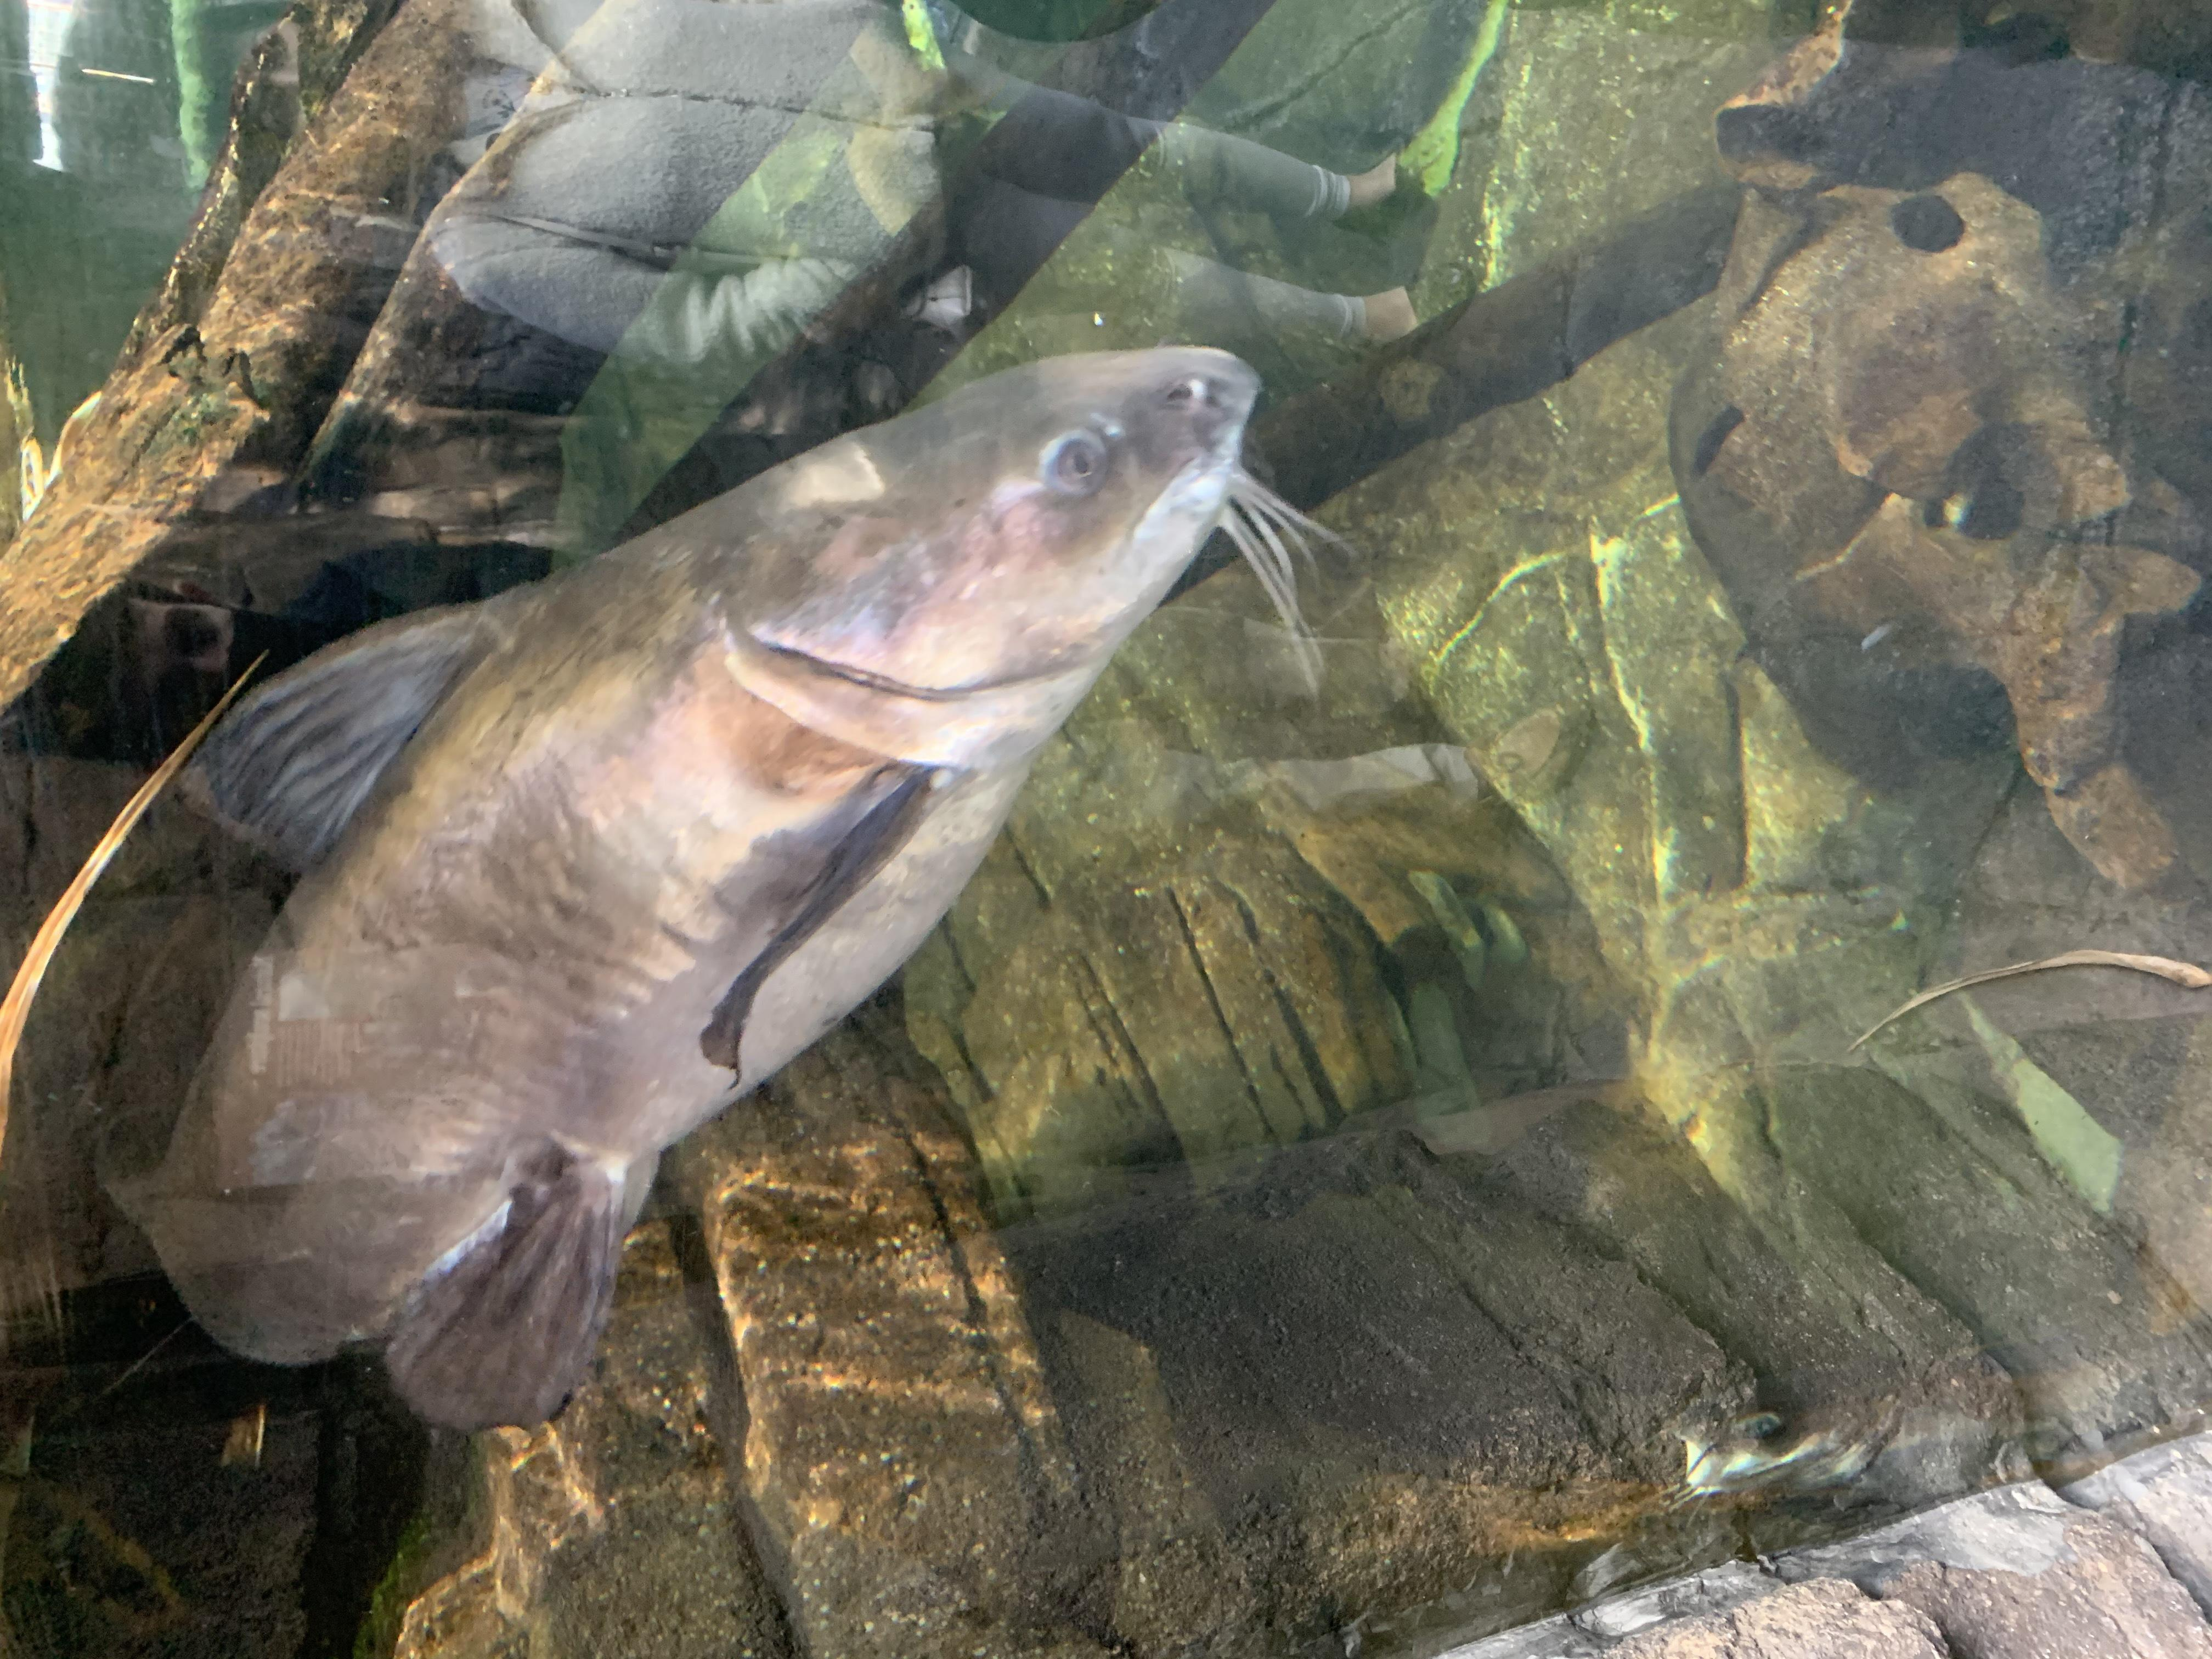fish: (92, 345, 1258, 1455)
